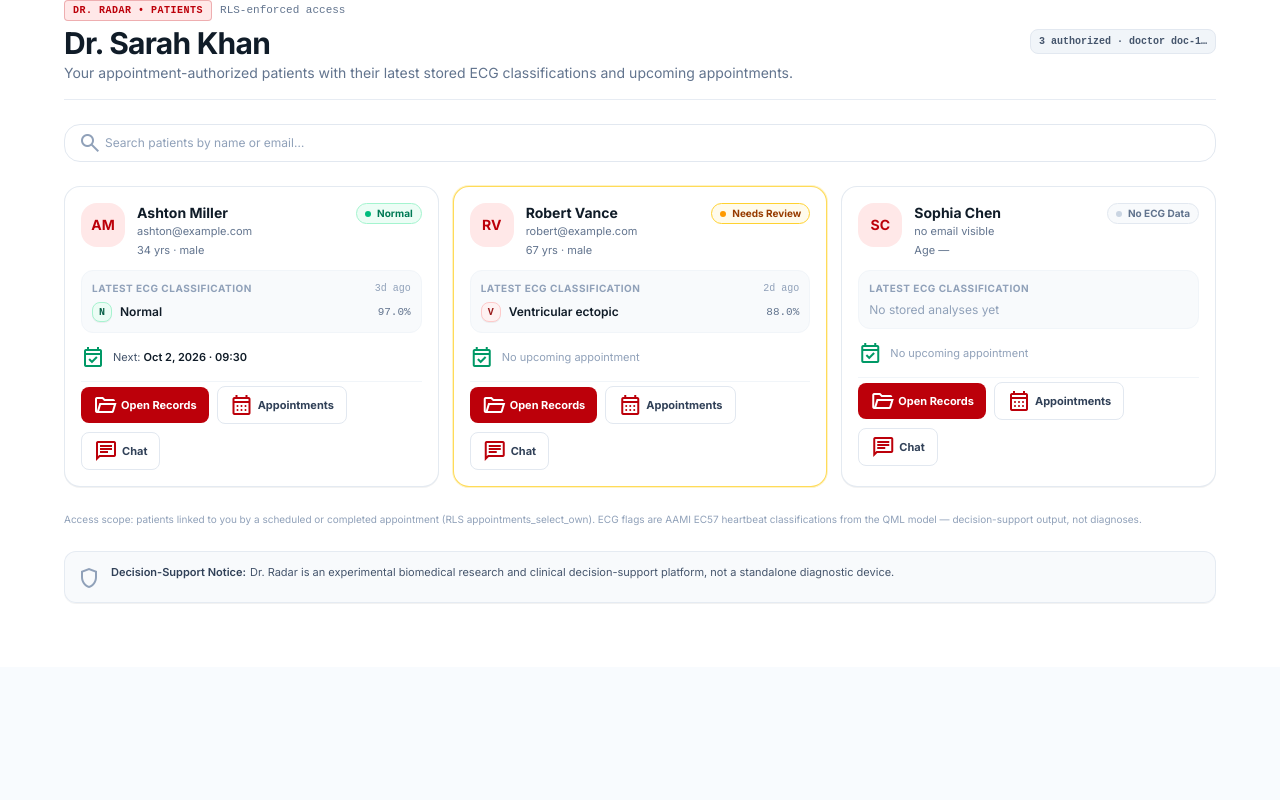
Test case: DoctorPatientsScreen › shows the no-match state when the search matches nothing
Check: the number of elements with test id "patient-card" is 3, box [64,186,439,487]; [453,186,827,487]; [841,186,1216,487]
Type "zzz-no-match" into the field with placeholder "Search patients by name or email…" at (640, 143), box [64,124,1216,162]
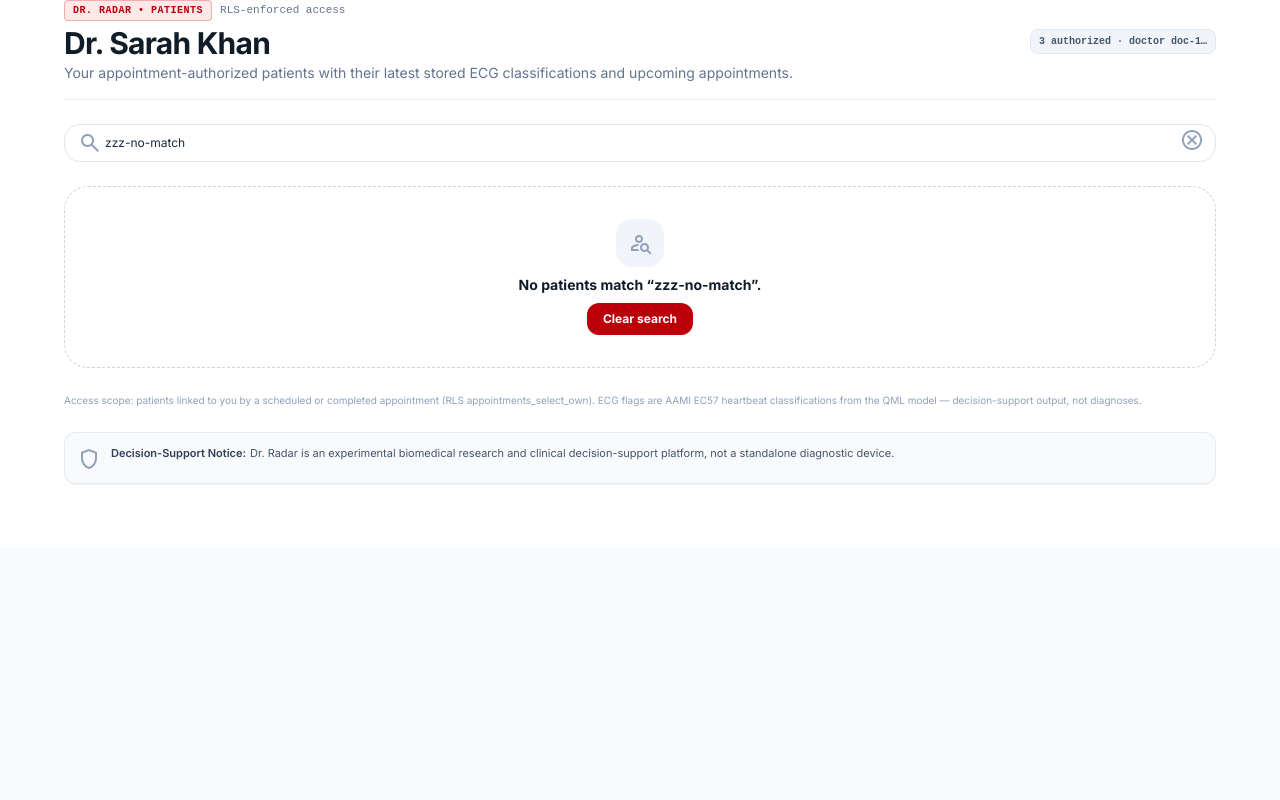
Check: the element with test id "patients-search-empty" is shown, box [64,186,1216,368]
